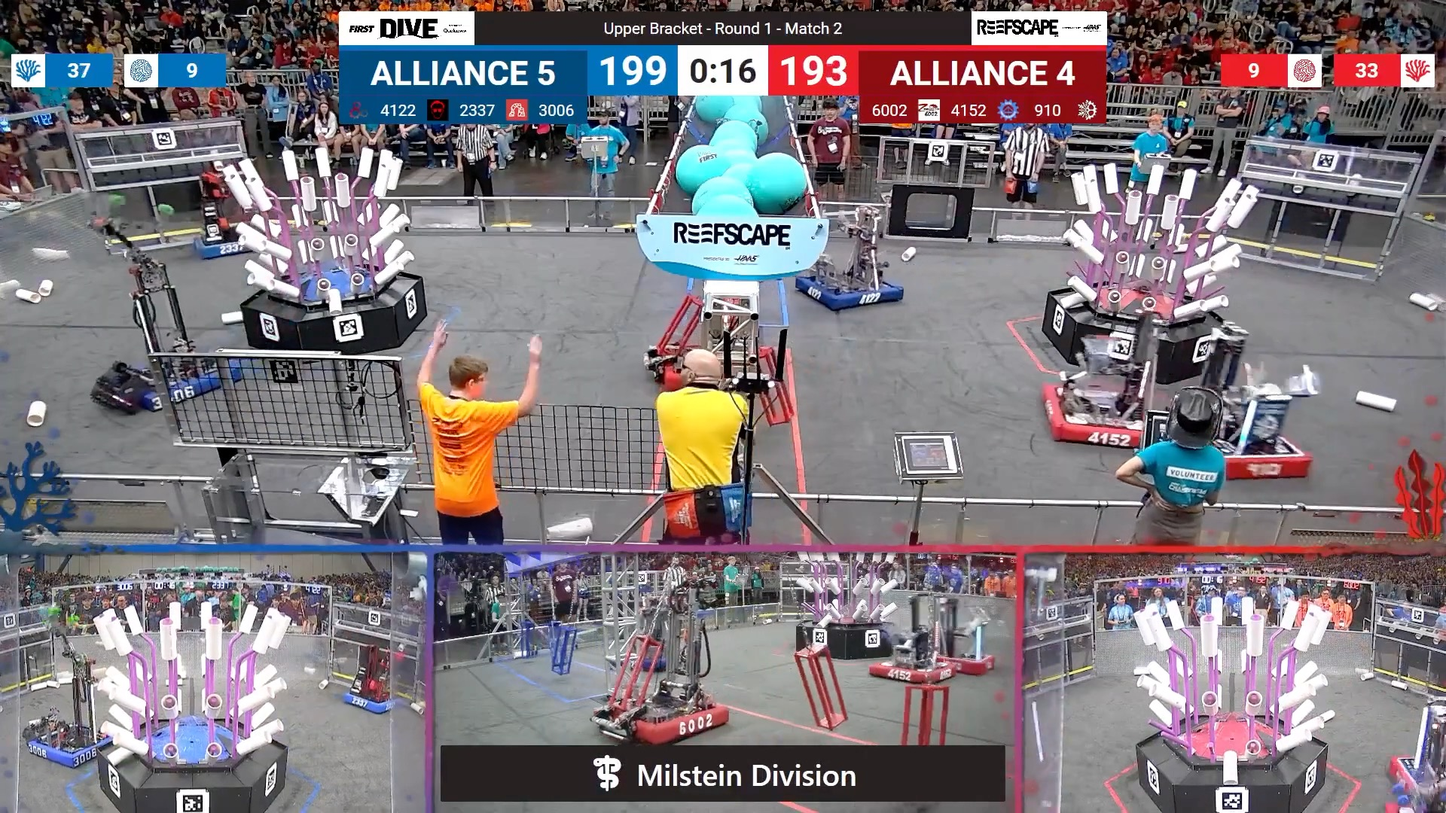bumpers: (1035, 383, 1169, 455), (1197, 422, 1316, 489), (99, 358, 243, 410), (599, 694, 732, 745), (789, 267, 908, 314), (20, 725, 120, 771), (866, 654, 963, 684), (1383, 753, 1445, 799), (187, 229, 267, 263), (334, 687, 407, 717)
